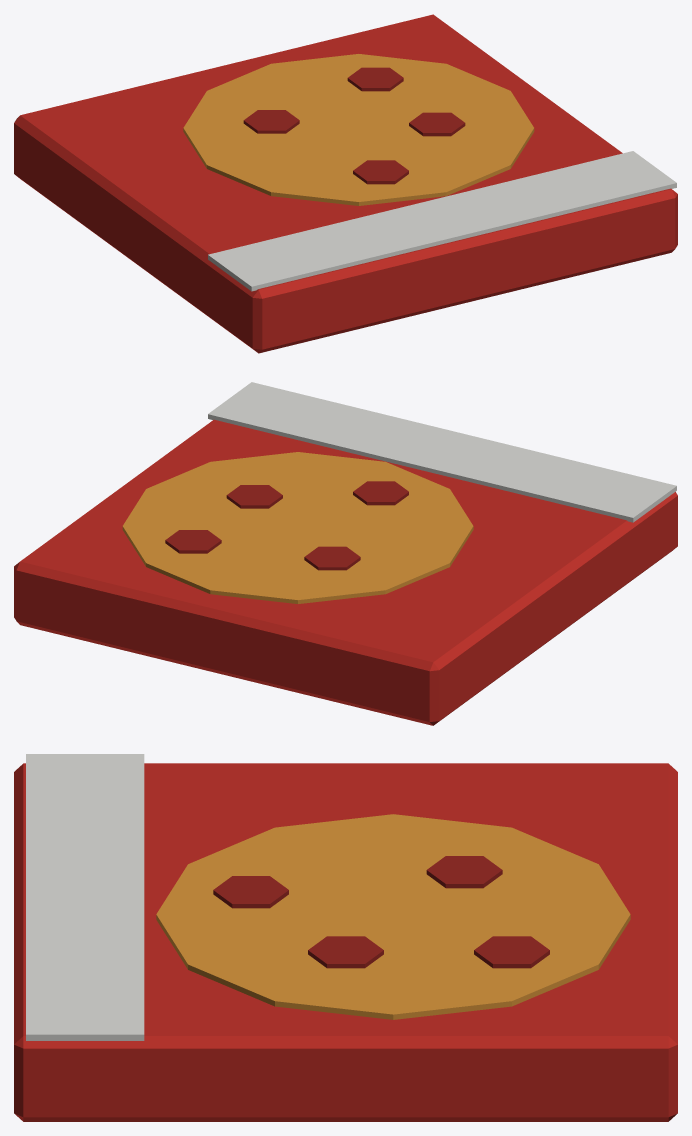
The model's file is hh_pizza.glb.
The picture shows the model from 3 angles, top to bottom: view 1: azimuth 30°, elevation 25°; view 2: azimuth 150°, elevation 25°; view 3: azimuth 270°, elevation 25°; orthographic projection. The views are drawn at different scales.
Parts seen in each view (by area): view 1: hh_pizza; view 2: hh_pizza; view 3: hh_pizza.
Part boxes in pixels (left/top/right/bottom): hh_pizza: left=14, top=14, right=677, bottom=353; hh_pizza: left=14, top=382, right=677, bottom=725; hh_pizza: left=14, top=754, right=677, bottom=1121.
Bounding box in the file's own units: 0.28 × 0.0445 × 0.28.
